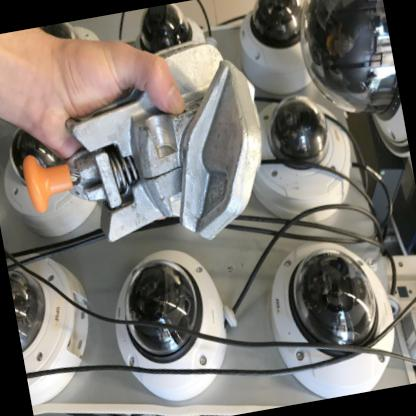Twistlock: (0, 32, 285, 278)
